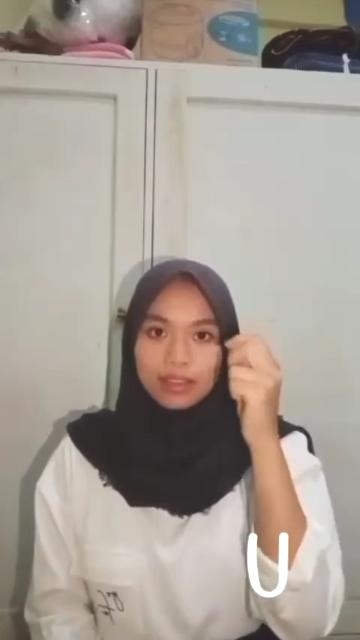T: (218, 329, 302, 453)
